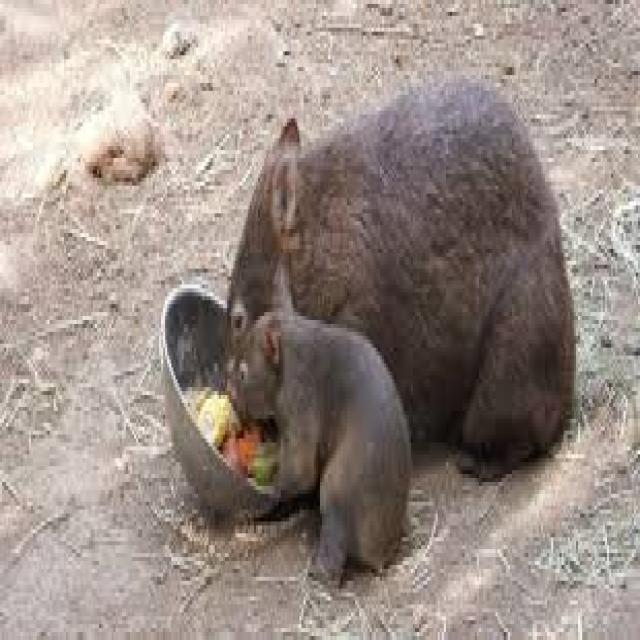Wombat: (220, 71, 576, 484), (228, 307, 414, 594)
